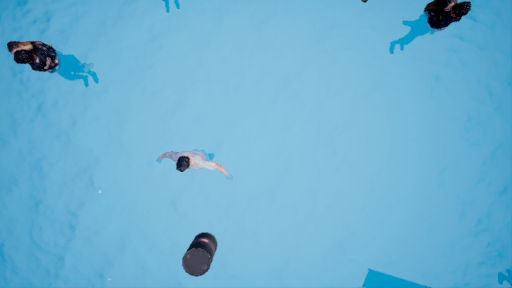person: (382, 1, 478, 61), (9, 40, 102, 93), (144, 141, 243, 184)
